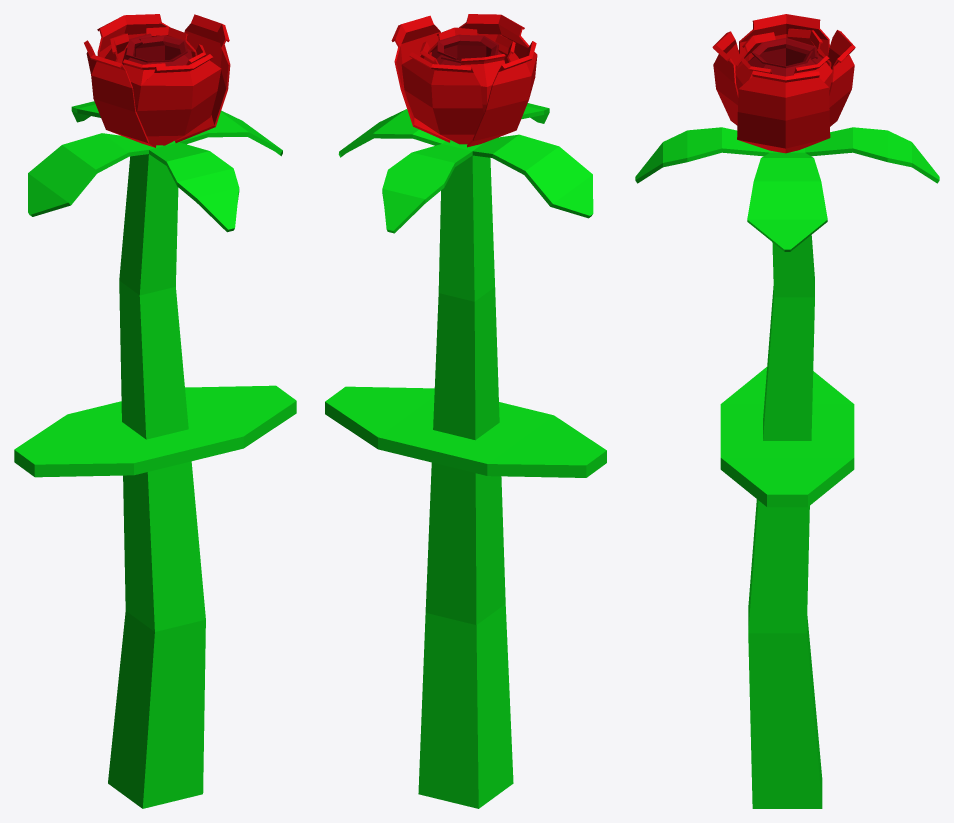
File: rose red.fbx
The picture shows the model from 3 angles, left to right: view 1: azimuth 30°, elevation 25°; view 2: azimuth 150°, elevation 25°; view 3: azimuth 270°, elevation 25°; orthographic projection.
Parts seen in each view (by area): view 1: rose red; view 2: rose red; view 3: rose red.
Part boxes in pixels (left/top/right/bottom): rose red: left=14, top=14, right=296, bottom=808; rose red: left=325, top=14, right=606, bottom=808; rose red: left=635, top=14, right=939, bottom=808.
Bounding box in the file's own units: 25.27 × 69.11 × 25.44.
